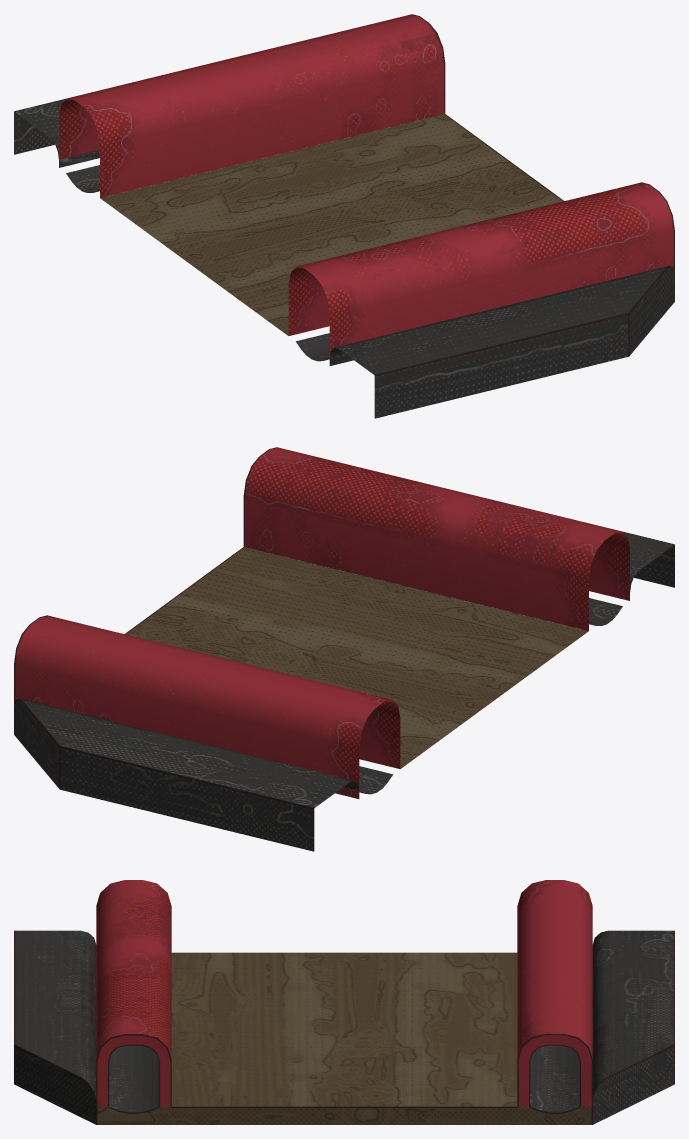
The model's file is SM_BDeckFloor.glb.
The picture shows the model from 3 angles, top to bottom: view 1: azimuth 30°, elevation 25°; view 2: azimuth 150°, elevation 25°; view 3: azimuth 270°, elevation 25°; orthographic projection. The views are drawn at different scales.
Visible parts, largest first — view 1: SM_BDeckFloor; view 2: SM_BDeckFloor; view 3: SM_BDeckFloor.
Part boxes in pixels (bbox=[...]): SM_BDeckFloor: bbox=[14, 14, 674, 418]; SM_BDeckFloor: bbox=[14, 447, 674, 851]; SM_BDeckFloor: bbox=[14, 880, 674, 1124].
Size of the model in its own units: 1.47 by 0.4024 by 2.66.
Materials: 1 (1 with a texture image).
